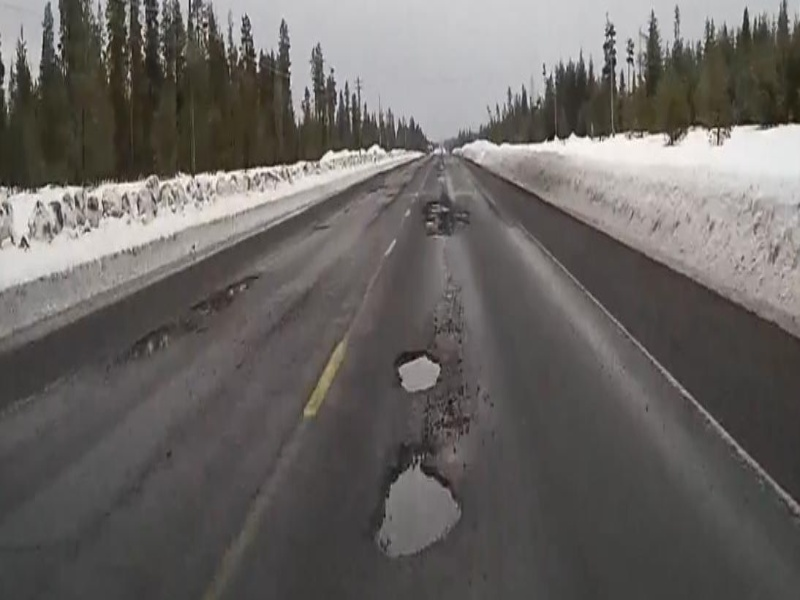pothole: (366, 442, 467, 562), (391, 348, 445, 397)
